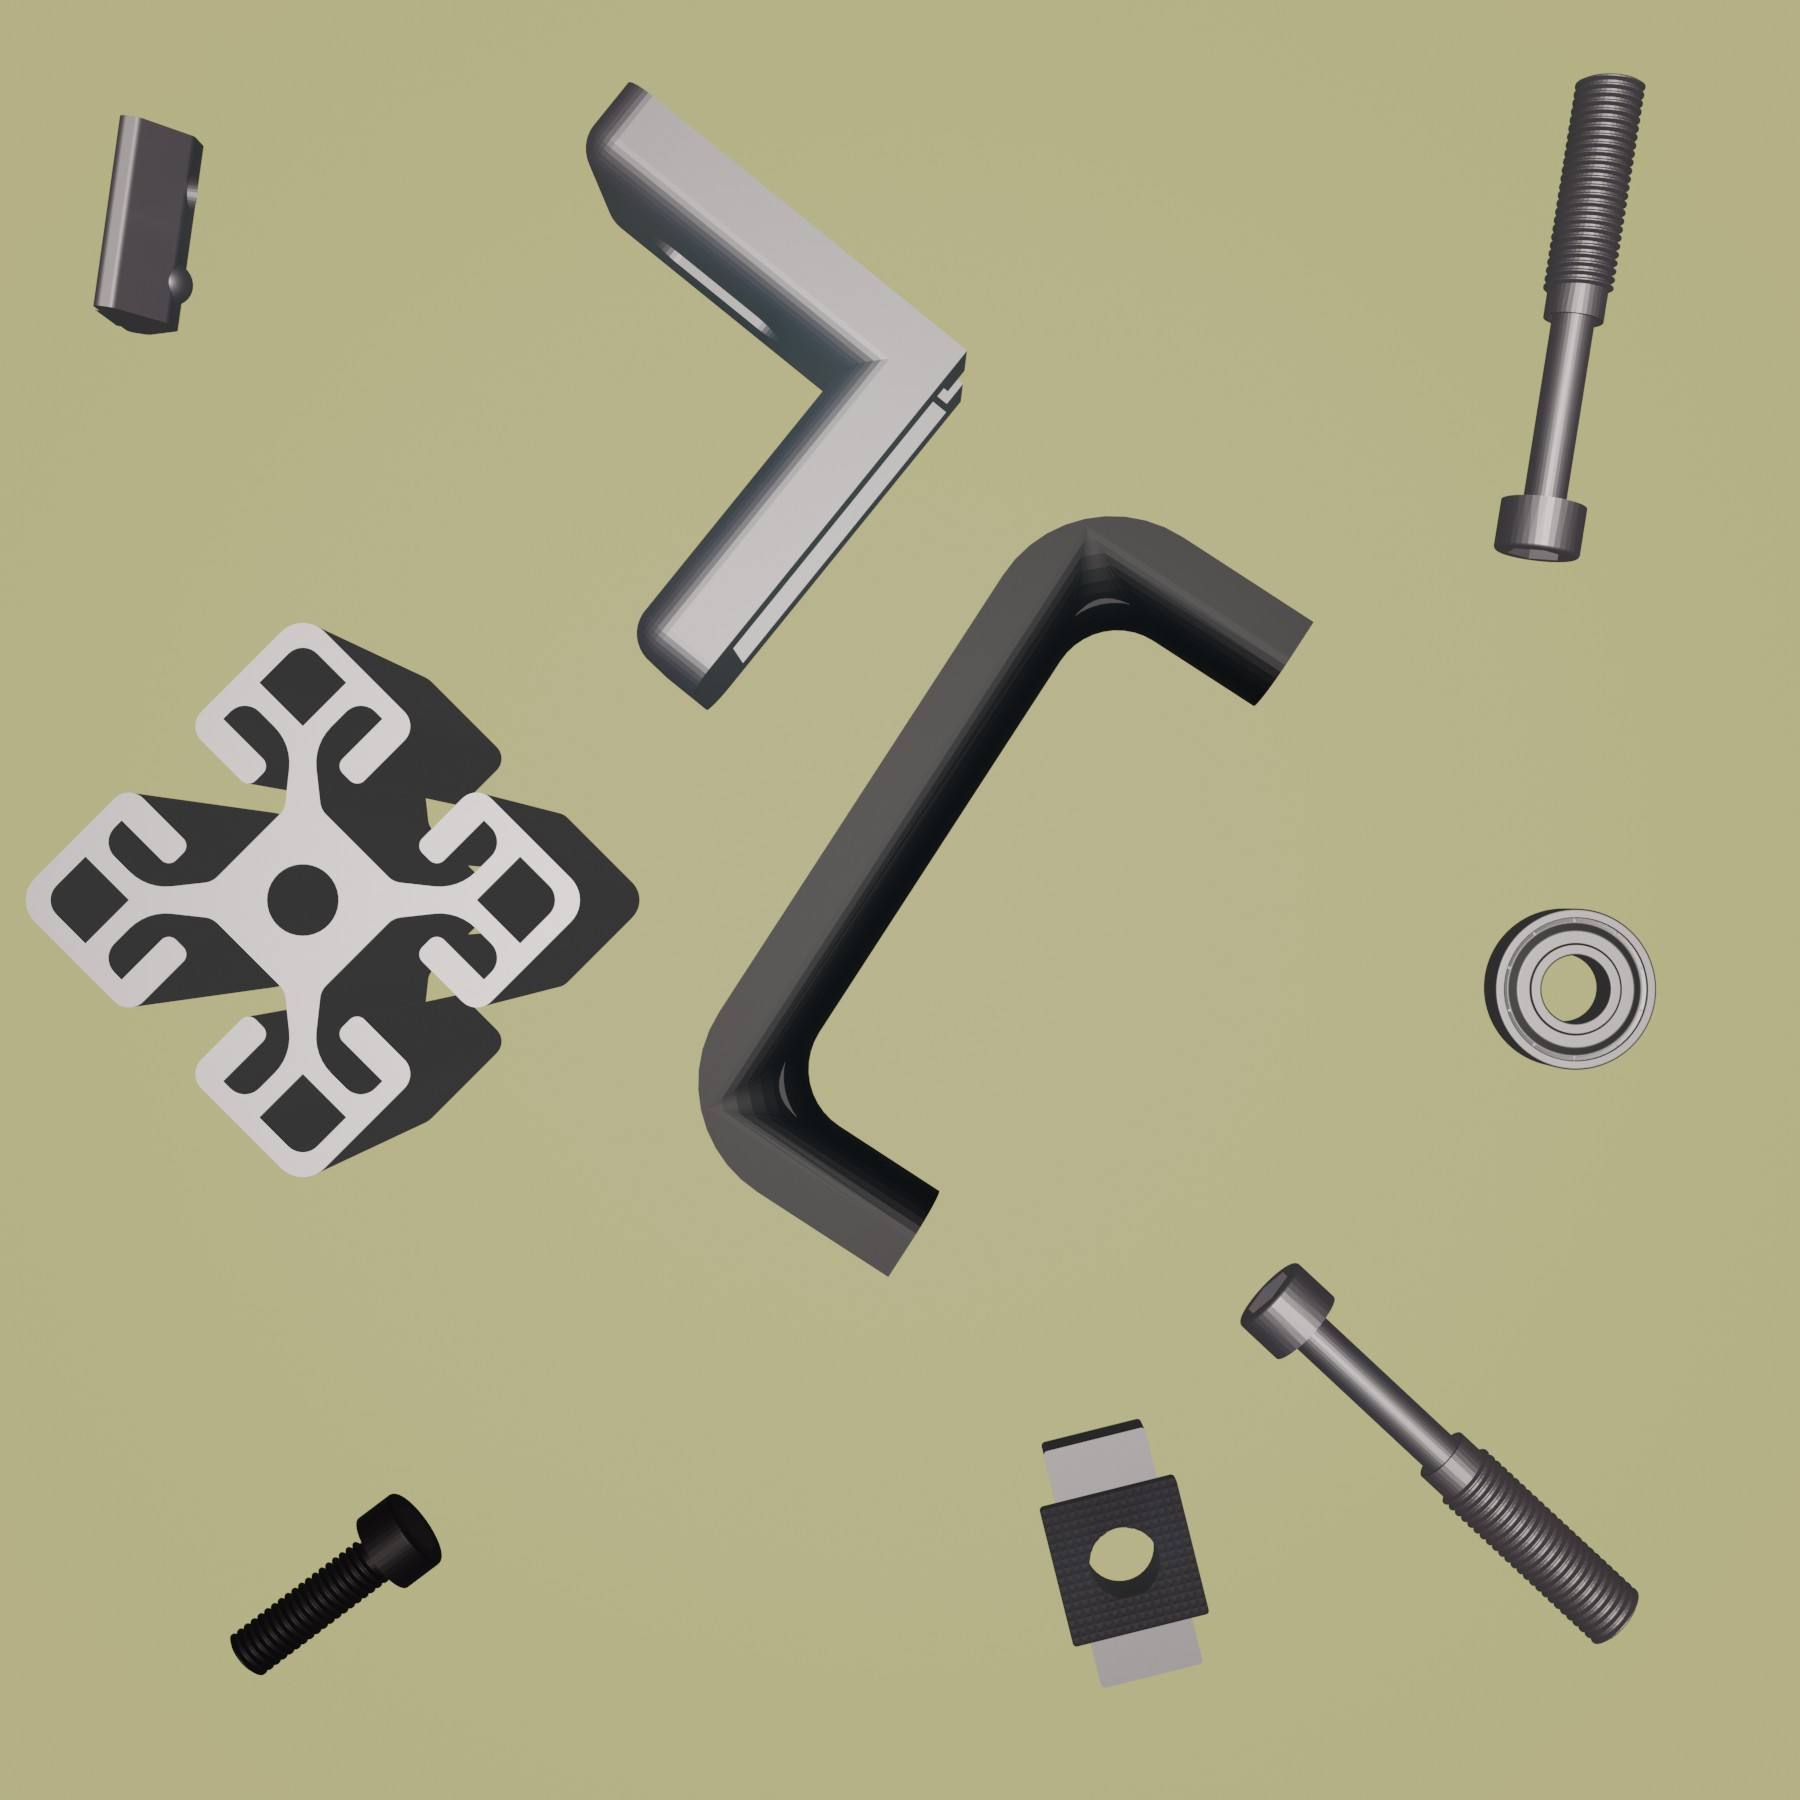Aluminium Extension: (23, 618, 640, 1185)
Ball Bearing: (1480, 903, 1658, 1073)
Multiwinkel: (584, 77, 969, 715)
Pull Handle: (697, 513, 1315, 1281)
Shoulder Socket Head Cap Screw: (1238, 1261, 1640, 1650), (1490, 68, 1648, 564)
Socket Head Cap Screw: (227, 1488, 447, 1676)
T Nut Square: (1035, 1418, 1213, 1691)
T Spring Nut: (89, 109, 204, 338)
